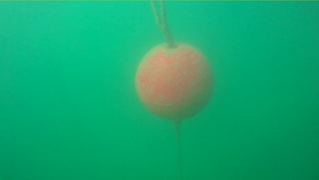buoy: (135, 40, 215, 121)
